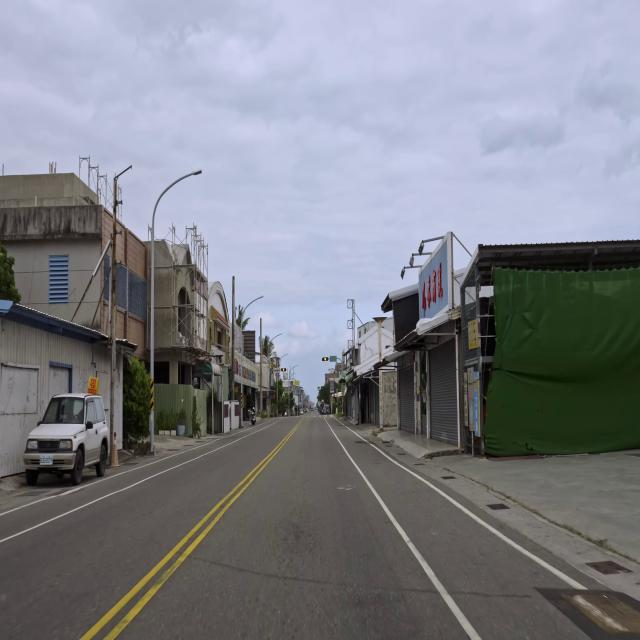yellow light: (322, 357, 328, 361), (280, 368, 286, 372)
